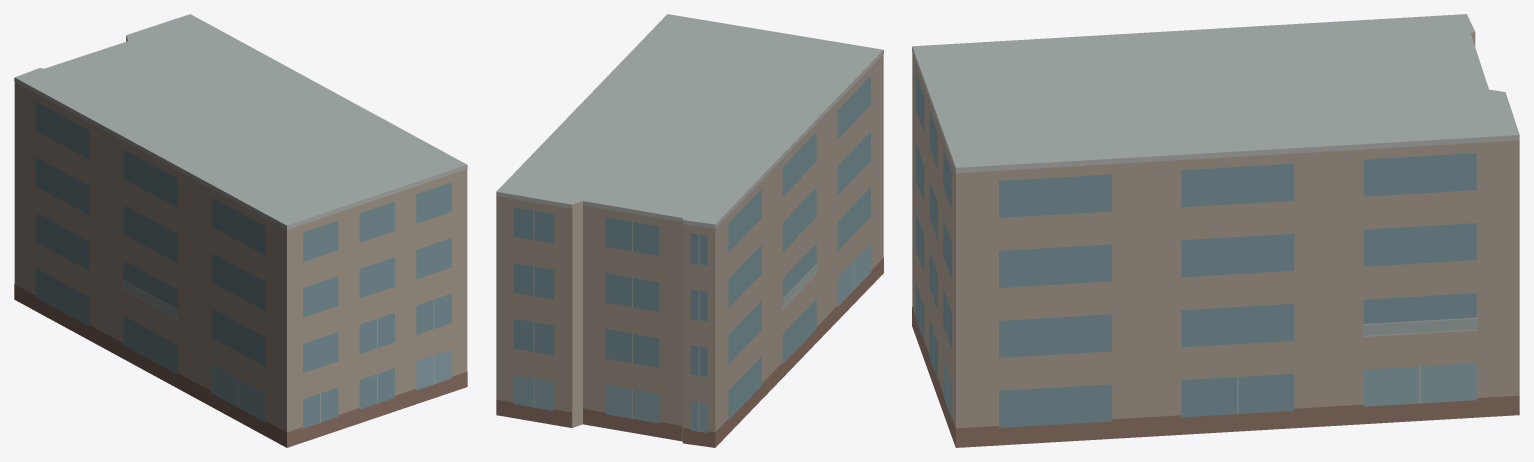
The model's file is survey-upis-32630577.glb.
3 views of the same model, side by side, from view 1: azimuth 30°, elevation 25°; view 2: azimuth 150°, elevation 25°; view 3: azimuth 270°, elevation 25° (orthographic). The views are drawn at different scales.
Visible parts, largest first — view 1: survey-upis-32630577.tmp; view 2: survey-upis-32630577.tmp; view 3: survey-upis-32630577.tmp.
Boxes of the visible parts, box(x1,y1,x2,y2) form: survey-upis-32630577.tmp: box(14, 14, 467, 447); survey-upis-32630577.tmp: box(496, 14, 883, 447); survey-upis-32630577.tmp: box(912, 14, 1519, 447).
Bounding box in the file's own units: 15.1 × 12.8 × 25.18.
